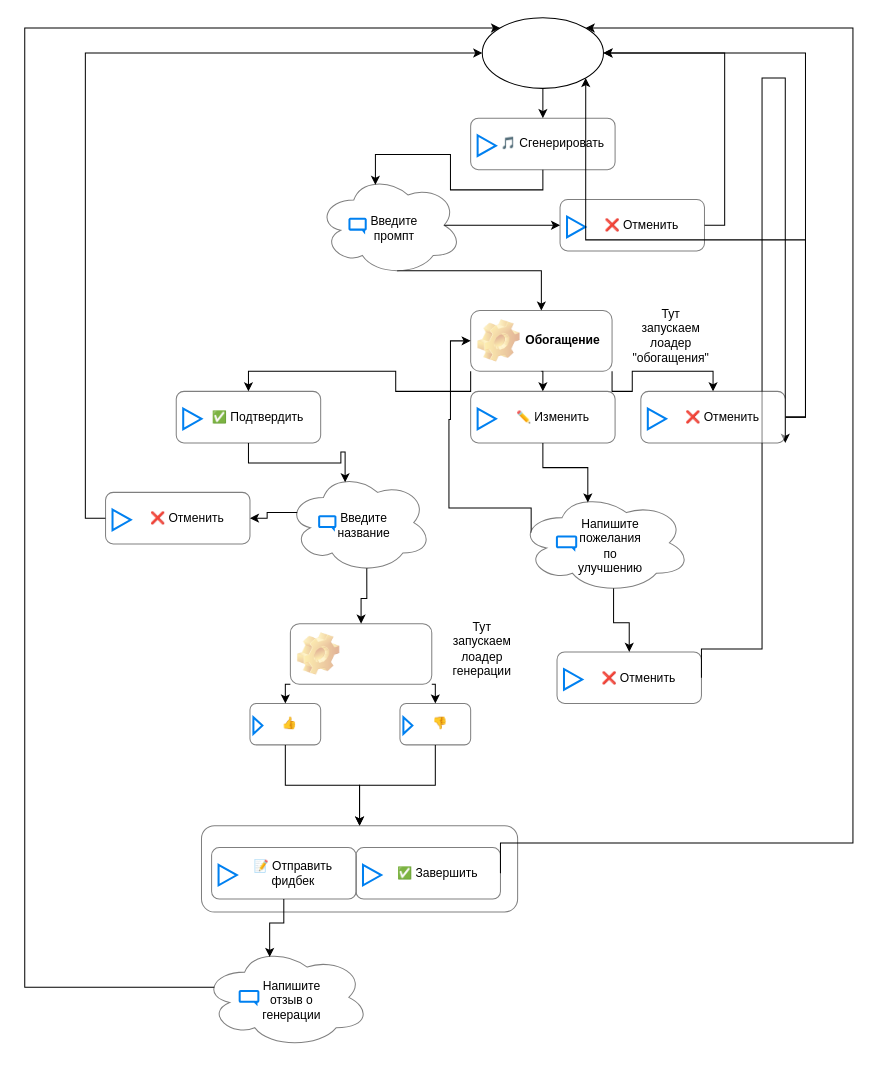
Image size: 879x1066. Some labels were removed from this diagram. Here are the shapes that lost their labels. From the top down, the centre of each, then its label:
At point 542,52: "User".
At point 360,653: "Генерация".
